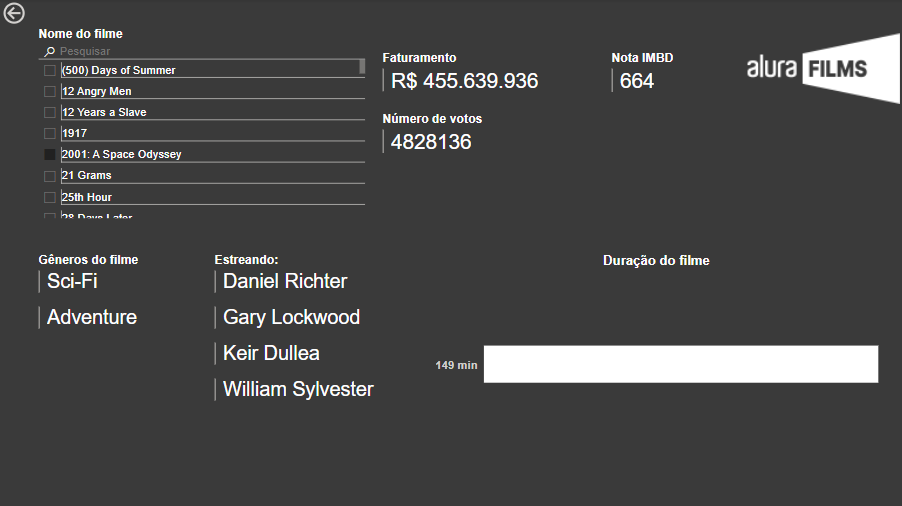

What the dashboard file says about the page in this screenshot:
{"tool":"powerbi","page":{"name":"Página 3","canvas":[1280,720],"ordinal":2},"visuals":[{"type":"slicer","title":"Nome do filme","fields":{"Values":["Filmes.Series_Title"]},"box":[49.6,39.7,447.9,240.9],"z":0},{"type":"multiRowCard","title":"Nota IMBD","fields":{"Values":["Filmes.IMDB_Rating"]},"box":[792.3,97.8,138.9,69.4],"z":1000},{"type":"actionButton","box":[0,0,100,40],"z":2000},{"type":"multiRowCard","title":"Número de votos","fields":{"Values":["Filmes.Noofvotes"]},"box":[513.1,208.3,180,72.3],"z":3000},{"type":"multiRowCard","title":"Faturamento","fields":{"Values":["Filmes.Gross"]},"box":[513.1,97.8,255.1,62.4],"z":4000},{"type":"multiRowCard","title":"Gêneros do filme","fields":{"Values":["Filmes.Genre"]},"box":[49.6,310.4,198.4,184.3],"z":5000},{"type":"multiRowCard","title":"Estreando:","fields":{"Values":["Filmes.Mesclado"]},"box":[335.9,310.4,304.7,242.4],"z":6000},{"type":"image","box":[1053.8,39.3,226.2,117.8],"z":7000},{"type":"barChart","title":"Duração do filme","fields":{"Category":["Filmes.Runtime"],"Y":["Filmes.Series_Title"]},"box":[640.6,310.4,602.4,242.4],"z":8000}]}

Visuals, with their boxes in screenshot pixels (x1, y1, x2, y2), scaled from the page's 1280x720 canvas onto the 902x506 screenshot:
"Nome do filme" slicer: BBox(35, 28, 351, 197)
"Nota IMBD" multiRowCard: BBox(558, 69, 656, 118)
actionButton: BBox(0, 0, 70, 28)
"Número de votos" multiRowCard: BBox(362, 146, 488, 197)
"Faturamento" multiRowCard: BBox(362, 69, 541, 113)
"Gêneros do filme" multiRowCard: BBox(35, 218, 175, 348)
"Estreando:" multiRowCard: BBox(237, 218, 451, 388)
image: BBox(743, 28, 901, 110)
"Duração do filme" barChart: BBox(451, 218, 876, 388)
